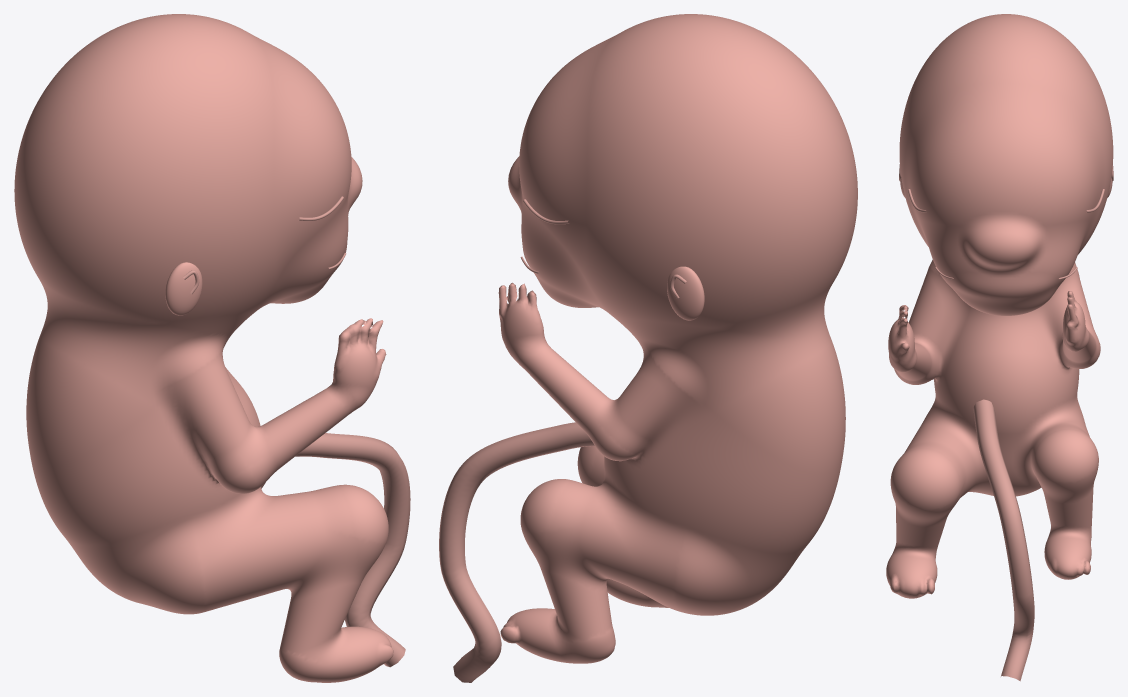
File: embryo.glb
3 renders of one model, left to right at view 1: azimuth 30°, elevation 25°; view 2: azimuth 150°, elevation 25°; view 3: azimuth 270°, elevation 25°, orthographic. The views are drawn at different scales.
Parts seen in each view (by area): view 1: EmbryoSkin, VascularAI_Embryo; view 2: EmbryoSkin, VascularAI_Embryo; view 3: EmbryoSkin, VascularAI_Embryo.
Part boxes in pixels (box(x1,y1,x2,y2)): EmbryoSkin: box(14, 14, 393, 682); VascularAI_Embryo: box(165, 196, 410, 667); EmbryoSkin: box(498, 14, 857, 663); VascularAI_Embryo: box(439, 199, 704, 682); EmbryoSkin: box(886, 14, 1113, 598); VascularAI_Embryo: box(899, 164, 1113, 681).
Size of the model in its own units: 1.77 by 3.05 by 1.11.
